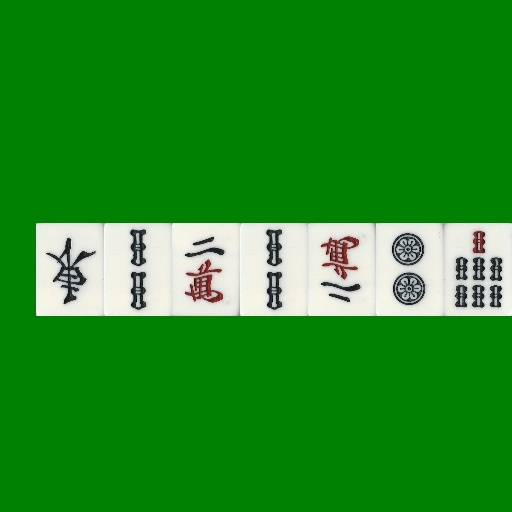2m: (172, 223, 240, 316), (308, 223, 376, 316)
2p: (376, 223, 444, 316)
2s: (104, 223, 172, 316), (240, 223, 308, 316)
7s: (444, 223, 512, 316)
east: (36, 223, 104, 316)
